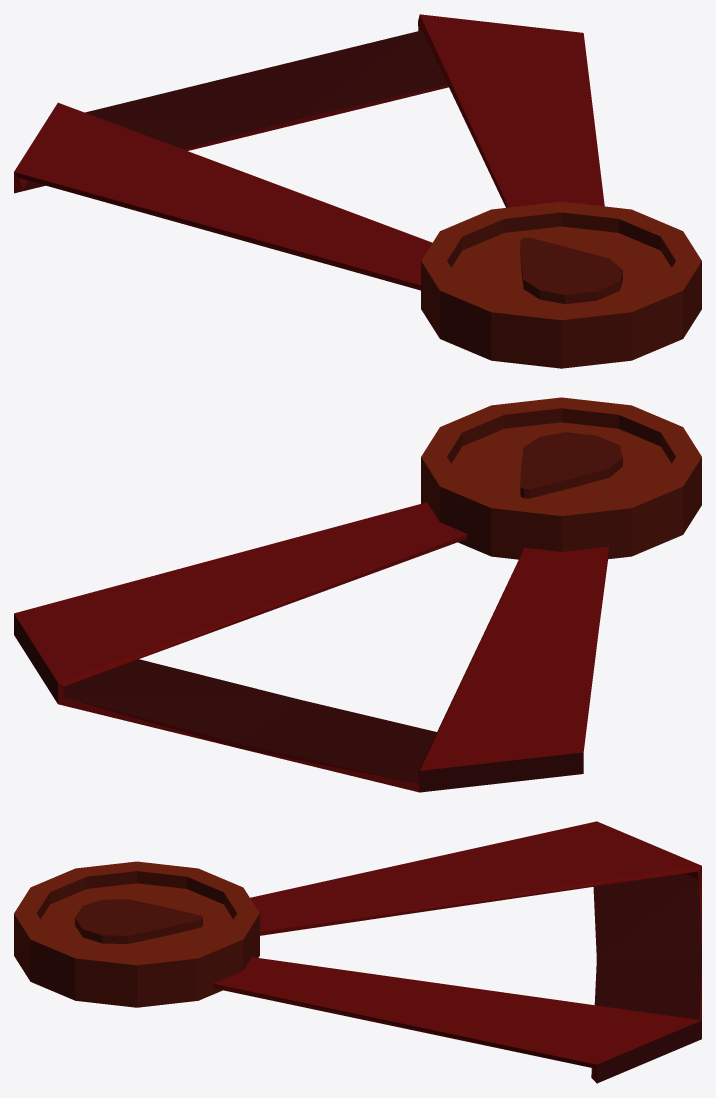
The model's file is achievements.dae.
The picture shows the model from 3 angles, top to bottom: view 1: azimuth 30°, elevation 25°; view 2: azimuth 150°, elevation 25°; view 3: azimuth 270°, elevation 25°; orthographic projection. The views are drawn at different scales.
Visible parts, largest first — view 1: Necklace-001, bronze_water_medal-001, Water_Emblem-001; view 2: Necklace-001, bronze_water_medal-001, Water_Emblem-001; view 3: Necklace-001, bronze_water_medal-001, Water_Emblem-001.
Part boxes in pixels (x1,y1,x2,y2): Necklace-001: (14, 14, 604, 290); bronze_water_medal-001: (421, 201, 701, 368); Water_Emblem-001: (520, 237, 622, 304); Necklace-001: (14, 502, 608, 792); bronze_water_medal-001: (421, 397, 701, 559); Water_Emblem-001: (520, 432, 622, 498); Necklace-001: (213, 821, 701, 1083); bronze_water_medal-001: (14, 861, 259, 1007); Water_Emblem-001: (75, 899, 202, 943).
Bounding box in the file's own units: 4.68 × 0.4352 × 5.6.
